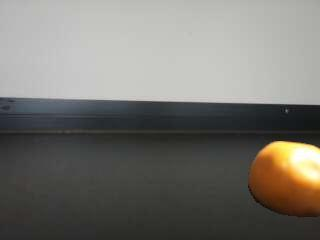Potato: (249, 142, 320, 218)
